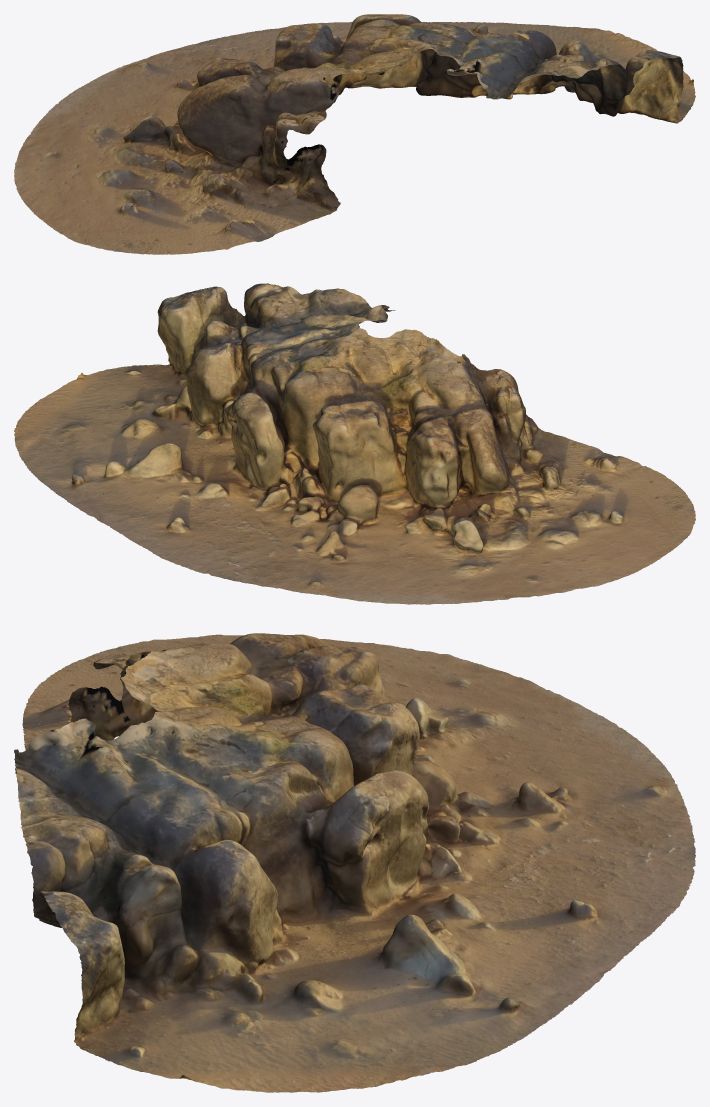
File: Rocks2.fbx
3 renders of one model, top to bottom at view 1: azimuth 30°, elevation 25°; view 2: azimuth 150°, elevation 25°; view 3: azimuth 270°, elevation 25°, orthographic. The views are drawn at different scales.
Parts seen in each view (by area): view 1: Rocks2.001; view 2: Rocks2.001; view 3: Rocks2.001.
Boxes of the visible parts, x1,y1,x2,y2 form: Rocks2.001: [14, 14, 695, 254]; Rocks2.001: [14, 283, 695, 604]; Rocks2.001: [14, 633, 695, 1092].
Bounding box in the file's own units: 1774 × 320 × 1097.
